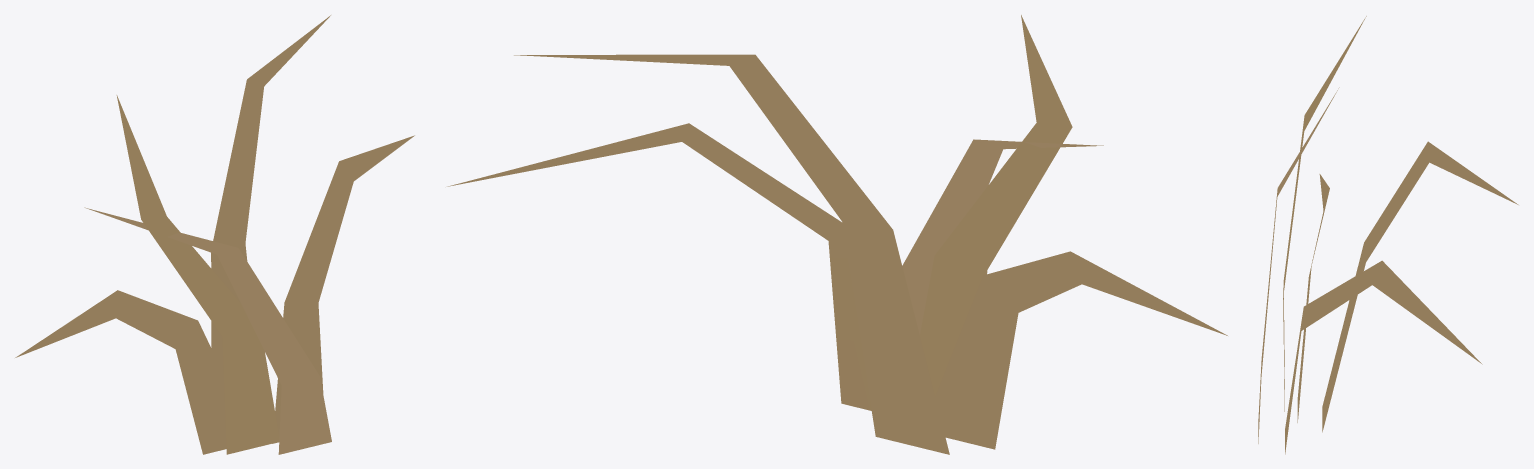
File: Grass_e_OneS_04.fbx
3 renders of one model, left to right at view 1: azimuth 30°, elevation 25°; view 2: azimuth 150°, elevation 25°; view 3: azimuth 270°, elevation 25°, orthographic. The views are drawn at different scales.
Visible parts, largest first — view 1: Grass_e_OneS_04; view 2: Grass_e_OneS_04; view 3: Grass_e_OneS_04.
Boxes of the visible parts, x1=… form: Grass_e_OneS_04: x1=15, y1=15, x2=414, y2=454; Grass_e_OneS_04: x1=447, y1=15, x2=1227, y2=454; Grass_e_OneS_04: x1=1258, y1=16, x2=1518, y2=454.
Size of the model in its own units: 0.6752 by 0.4681 by 0.311.
